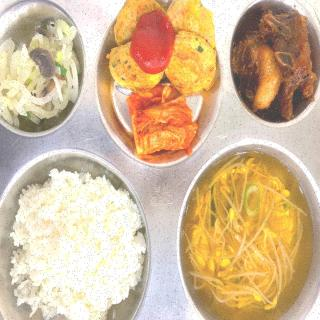Nasi: (11, 168, 147, 320)
